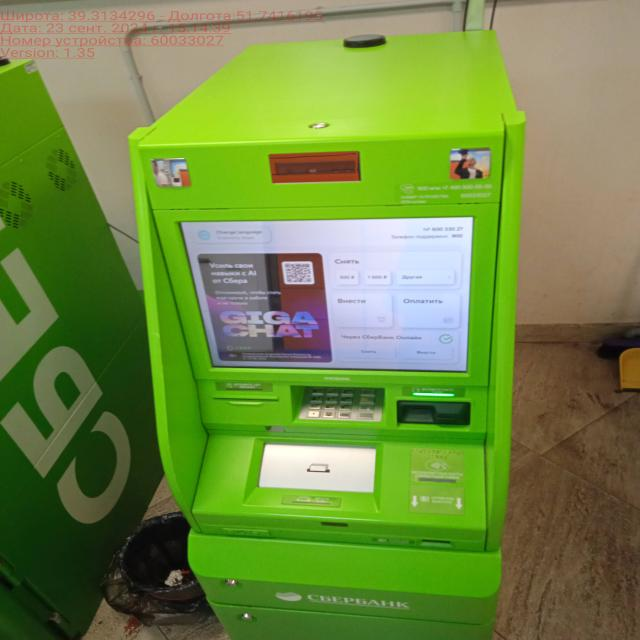bank: (129, 32, 529, 640), (0, 55, 155, 640)
